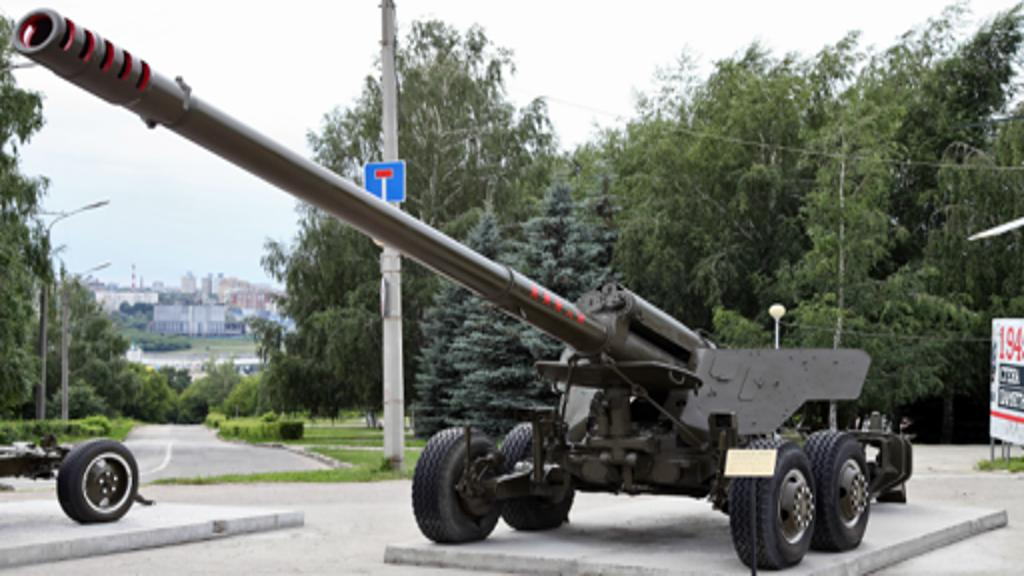ART: (10, 8, 916, 571)
